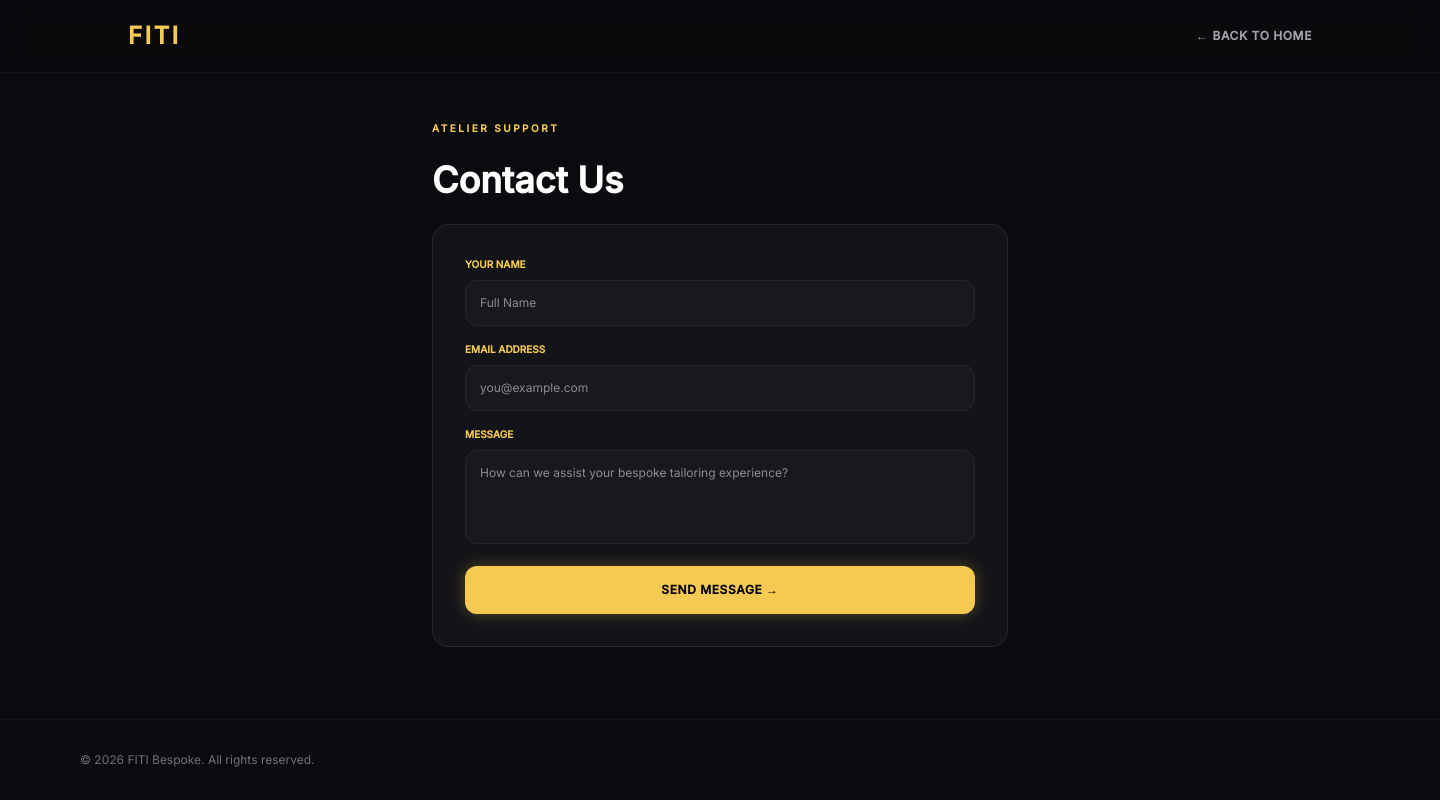
Test: Public Pages & Authentication Flow › Landing & Information Pages › handles contact form submission
The width and height of the screenshot is (1440, 800).
Check: the heading "Contact Us" is shown, box [432, 158, 623, 202]
Type "Test User" into the field with placeholder "Full Name" at coordinates (720, 303), box [465, 280, 975, 326]
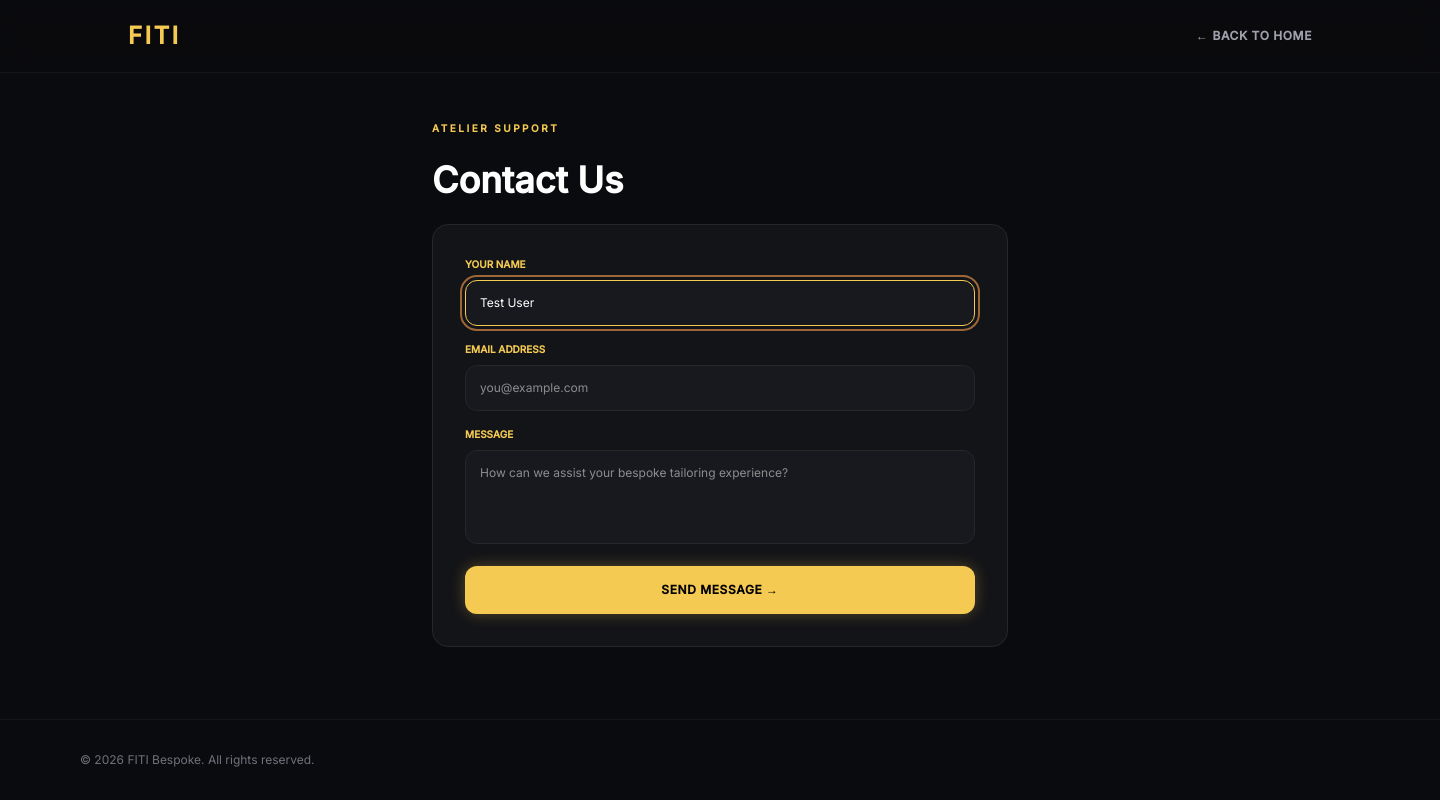
Type "test@example.com" into the field with placeholder "you@example.com" at coordinates (720, 388), box [465, 365, 975, 411]
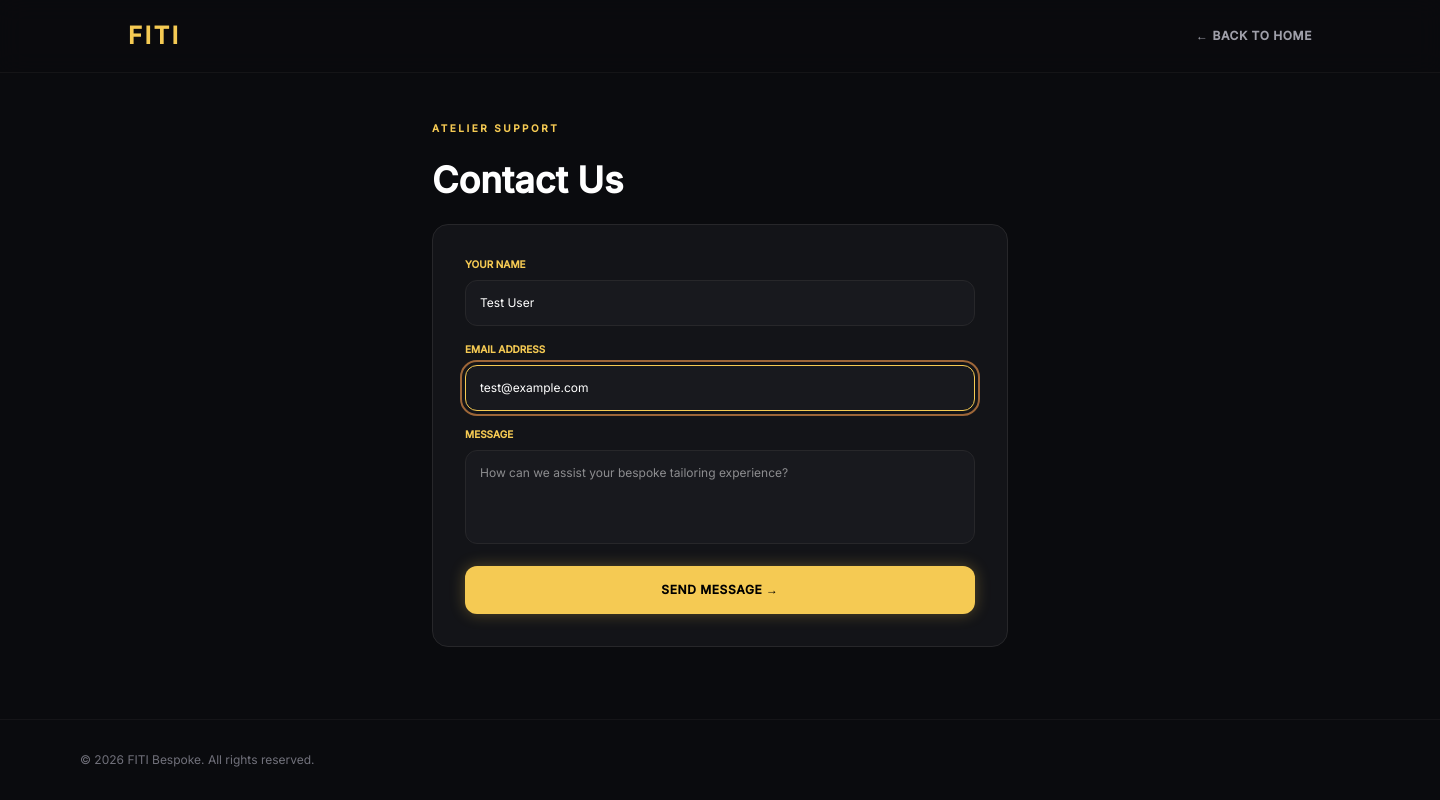
Type "I would like to inquire about custom suit orders." into the text box with placeholder "How can we assist your bespoke tailoring experience?" at coordinates (720, 497), box [465, 450, 975, 544]
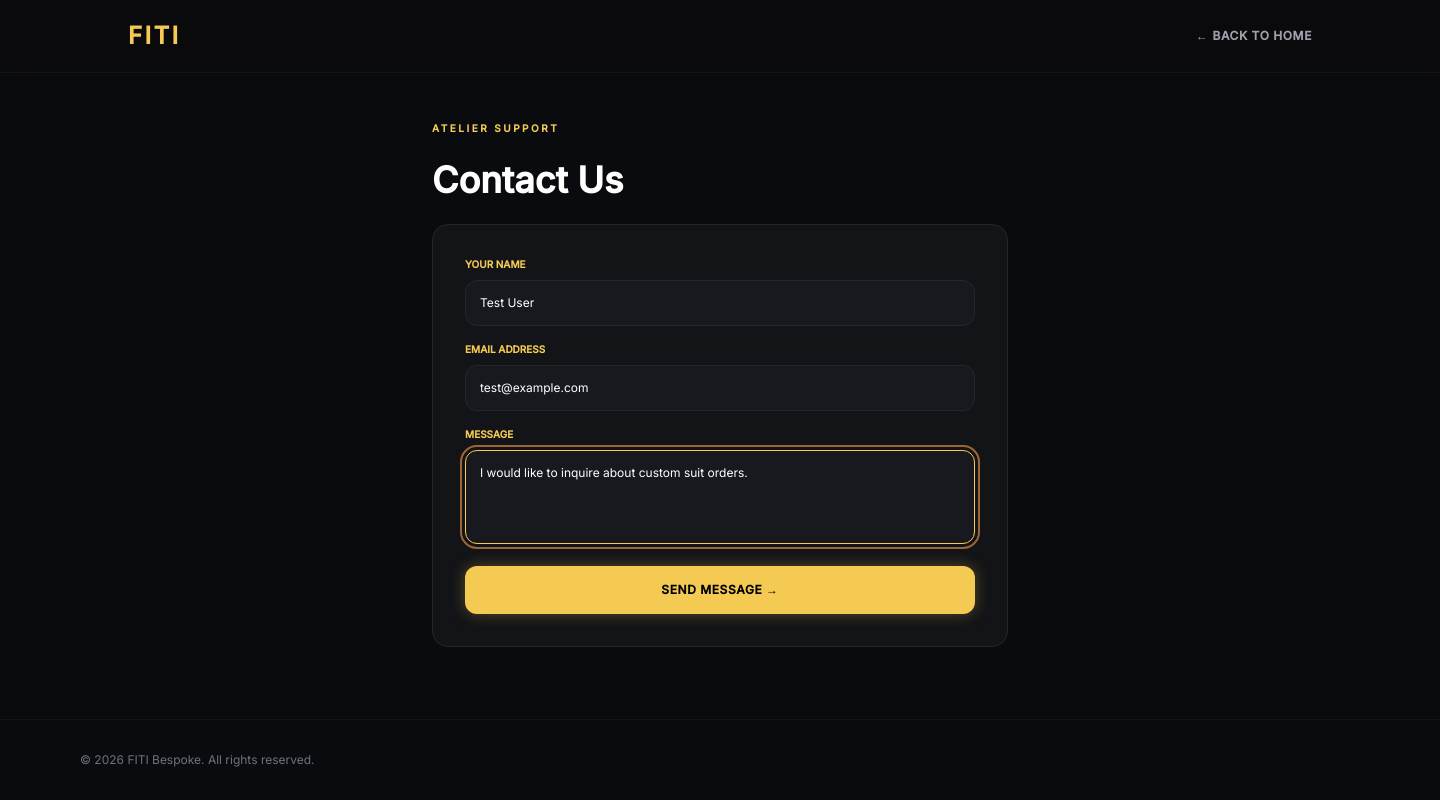
Click the button "SEND MESSAGE →" at coordinates (720, 590), box [465, 566, 975, 614]
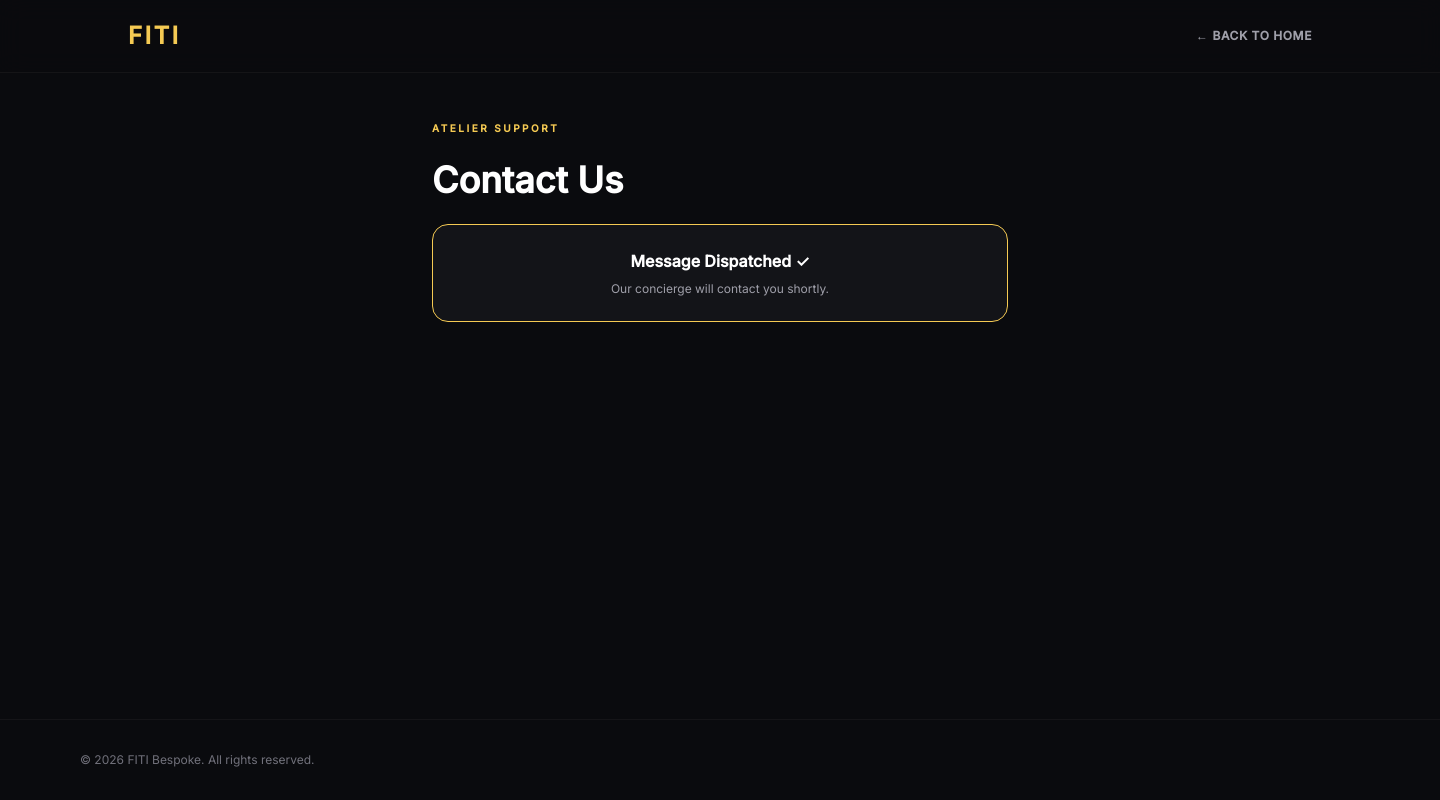
Check: the heading "Message Dispatched ✓" is shown, box [630, 251, 810, 271]
